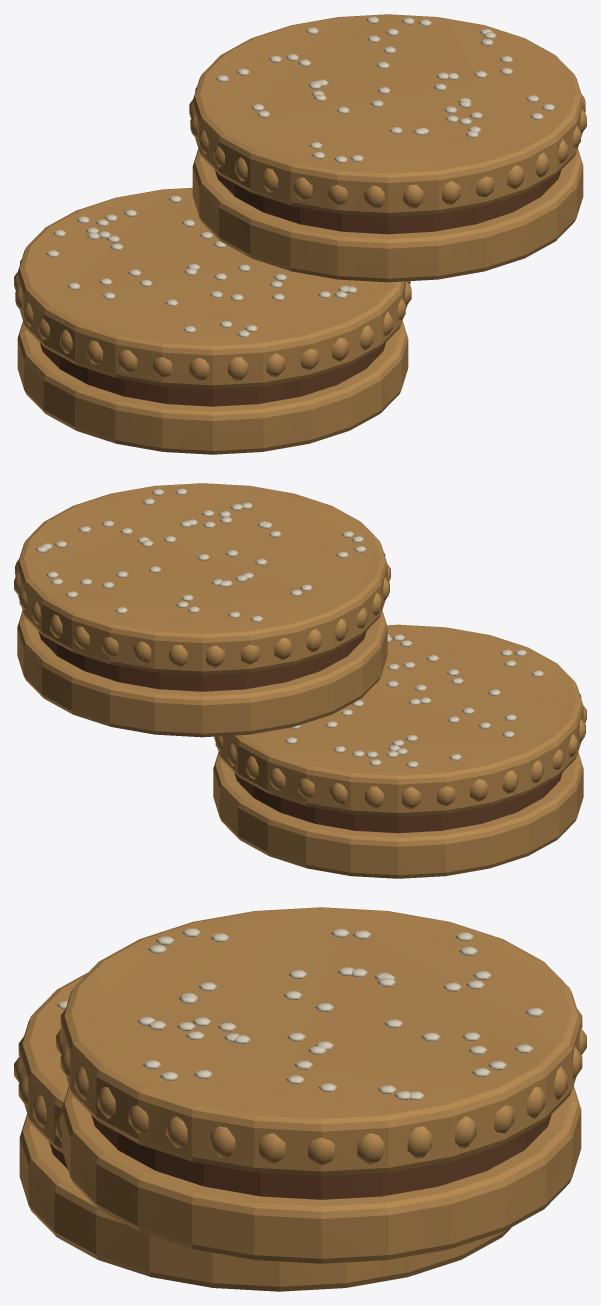
Rendered from food_alfajor_runtime.glb.
3 views of the same model, one above another, from view 1: azimuth 30°, elevation 25°; view 2: azimuth 150°, elevation 25°; view 3: azimuth 270°, elevation 25° (orthographic). The views are drawn at different scales.
Visible parts, largest first — view 1: Biscuit bottom; view 2: Biscuit bottom; view 3: Biscuit bottom.
Part boxes in pixels (bbox=[...]): Biscuit bottom: bbox=[14, 14, 586, 454]; Biscuit bottom: bbox=[14, 483, 586, 878]; Biscuit bottom: bbox=[14, 907, 586, 1291].
Size of the model in its own units: 0.9838 by 0.3995 by 0.6838.
